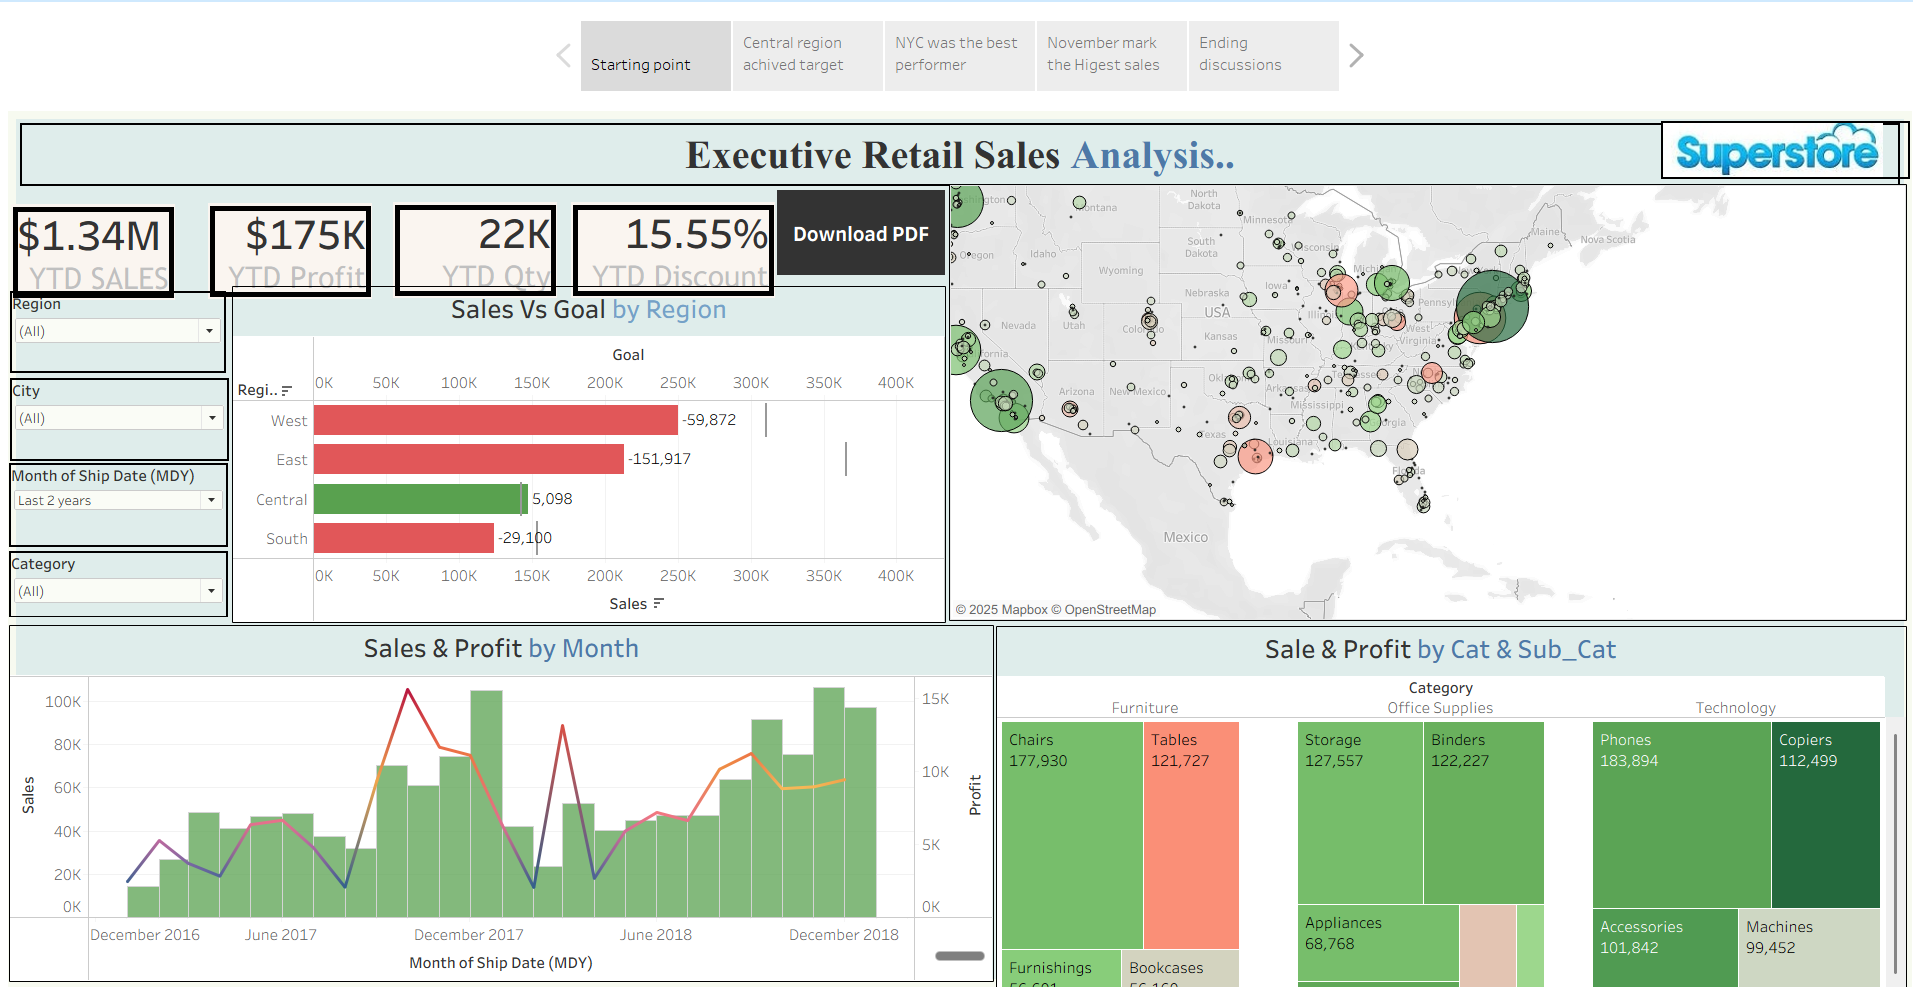

The page's visual inventory and layout, read from the dashboard file:
{"tool":"tableau","page":{"name":"Dashboard 1","canvas":[1000,1000],"units":"permille","ordinal":0},"visuals":[{"type":"worksheet","title":"Qty","mark":"Automatic","box":[202.1,7.5,120.1,339.6]},{"type":"worksheet","title":"discount","mark":"Automatic","box":[295.8,7.5,118.9,283.4]},{"type":"worksheet","title":"Profit","mark":"Automatic","box":[104.9,8.7,121.3,226]},{"type":"worksheet","title":"Sales","mark":"Automatic","box":[1.8,10,107.8,229.7]},{"type":"title","box":[4.7,10,990.6,88.6]},{"type":"image","param":"Image/download.jpeg","box":[868.2,11.2,130.6,66.2]},{"type":"worksheet","title":"City wise","mark":"Automatic","box":[494.4,83.7,503.2,499.4]},{"type":"dashboard-object","box":[404.1,89.9,88.5,97.4]},{"type":"worksheet","title":"Sales Vs Goal","mark":"Automatic","rows":["Region"],"cols":["Sales","Goal"],"box":[117.8,199.8,374.9,384.5]},{"type":"filter","title":"Sales Vs Goal","param":"[federated.1a60av20npun2j1cgu62n0ei90px].[none:Region:nk]","box":[1.2,206,113.7,93.6]},{"type":"filter","title":"City wise","param":"[federated.1a60av20npun2j1cgu62n0ei90px].[none:City:nk]","box":[1.2,304.6,114.8,94.9]},{"type":"filter","title":"Time_series","param":"[federated.1a60av20npun2j1cgu62n0ei90px].[tmn:Ship Date (MDY):qk]","box":[0.6,402,114.8,96.1]},{"type":"filter","title":"Tree_map","param":"[federated.1a60av20npun2j1cgu62n0ei90px].[none:Category:nk]","box":[0.6,501.9,114.8,76.2]},{"type":"worksheet","title":"Time_series","mark":"Automatic","rows":["Sales","Profit"],"cols":["Ship Date (MDY)"],"box":[0.6,586.8,517.3,407]}]}

Visuals, with their boxes on the dashboard's canvas, which has no fixed pixel size, in thousandths of its width and height (x1, y1, x2, y2). These are canvas units, not pixel positions in the 1913x992 screenshot, which may show the page scaled, cropped or inside an application window:
"Qty" worksheet: (202,8,322,347)
"discount" worksheet: (296,8,415,291)
"Profit" worksheet: (105,9,226,235)
"Sales" worksheet: (2,10,110,240)
title: (5,10,995,99)
image: (868,11,999,77)
"City wise" worksheet: (494,84,998,583)
dashboard-object: (404,90,493,187)
"Sales Vs Goal" worksheet: (118,200,493,584)
"Sales Vs Goal" filter: (1,206,115,300)
"City wise" filter: (1,305,116,400)
"Time_series" filter: (1,402,115,498)
"Tree_map" filter: (1,502,115,578)
"Time_series" worksheet: (1,587,518,994)
